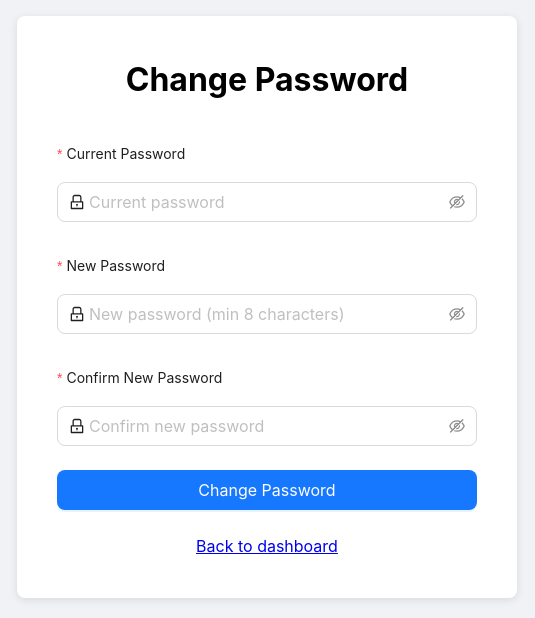
PasswordChangePage › Form Validation › should show error when new password is empty
Type "oldpass123" into the password field labelled "Current Password" at [267, 202], box x1=89 y1=190 x2=445 y2=214
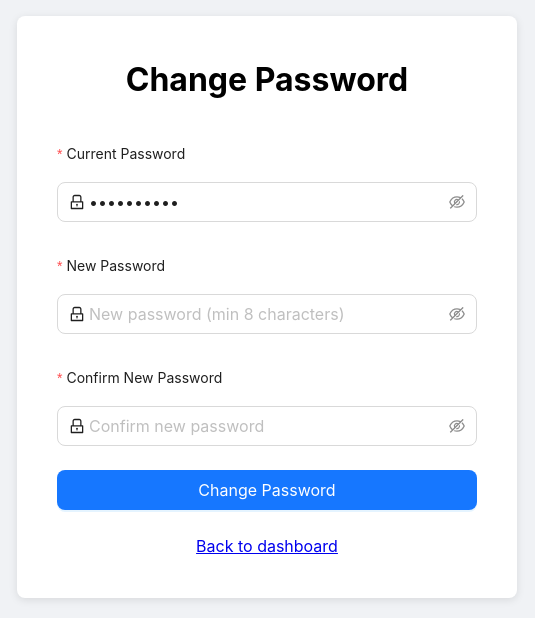
Click the button "Change Password" at [267, 490], box x1=57 y1=470 x2=477 y2=510
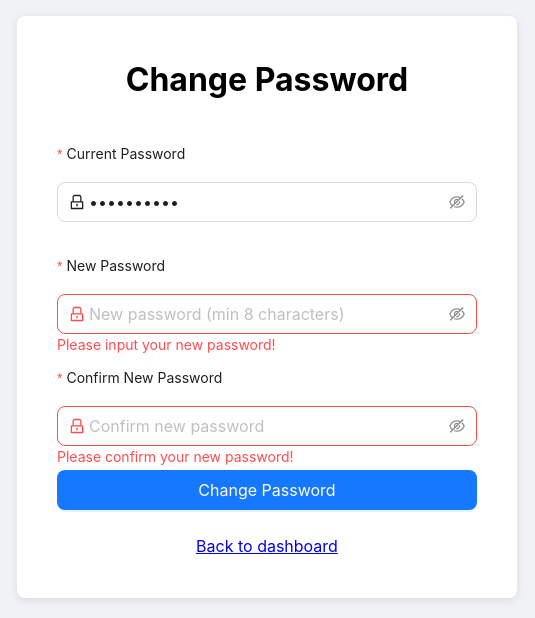
Result: the text "Please input your new password!" is shown at x1=57 y1=336 x2=276 y2=353
